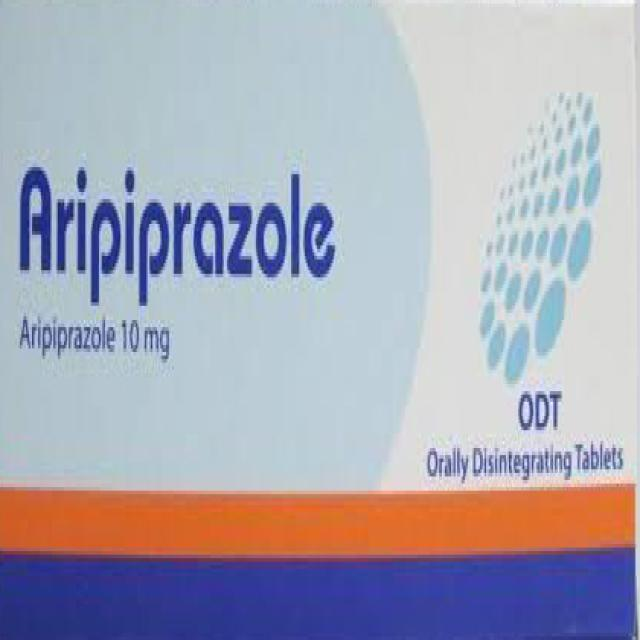drug-name: (18, 164, 338, 306)
